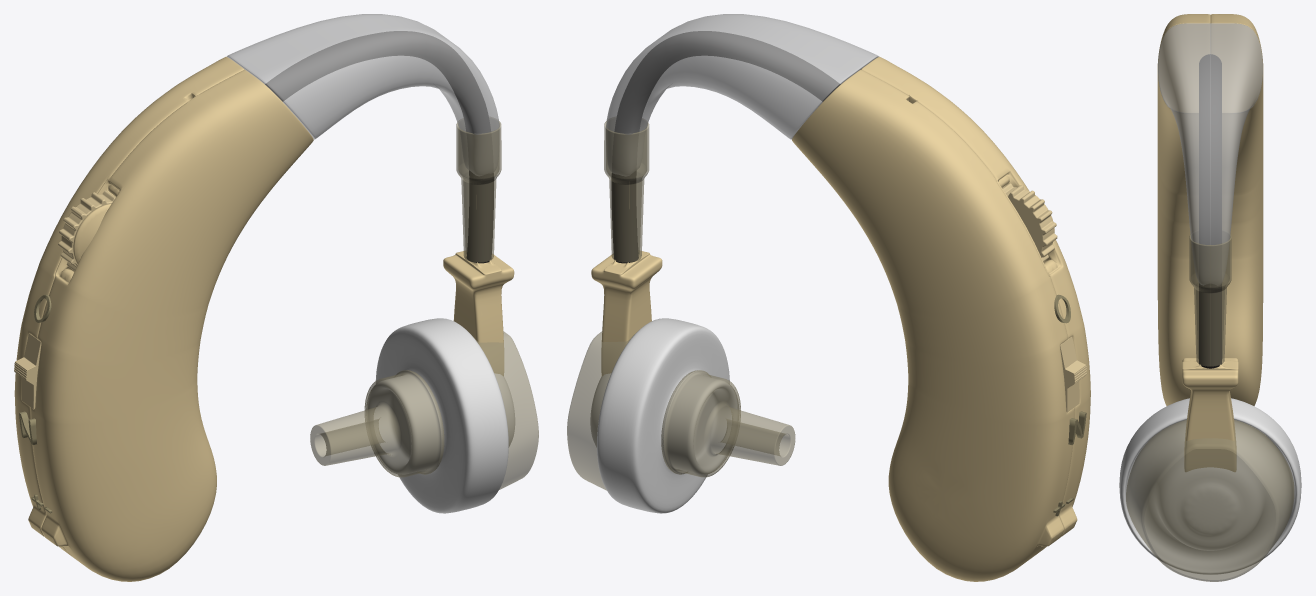
File: hearing-aid-model.glb
3 renders of one model, left to right at view 1: azimuth 30°, elevation 25°; view 2: azimuth 150°, elevation 25°; view 3: azimuth 270°, elevation 25°, orthographic. The views are drawn at different scales.
Visible parts, largest first — view 1: BaseF, MetallF, TubeBaseF, RubbersF, TubeF, 3F, LockF, LockF.003, TextF; view 2: BaseF, MetallF, TubeBaseF, RubbersF, TubeF, 3F, LockF, LockF.003, TextF; view 3: BaseF, RubbersF, MetallF, TubeBaseF, TubeF, 3F.
Part boxes in pixels (bbox=[...]): BaseF: bbox=[14, 56, 313, 581]; MetallF: bbox=[368, 318, 514, 513]; TubeBaseF: bbox=[227, 14, 499, 175]; RubbersF: bbox=[310, 117, 538, 489]; TubeF: bbox=[265, 31, 493, 263]; 3F: bbox=[443, 251, 514, 375]; LockF: bbox=[58, 190, 115, 270]; LockF.003: bbox=[14, 333, 41, 409]; TextF: bbox=[19, 294, 52, 513]; BaseF: bbox=[792, 56, 1090, 581]; MetallF: bbox=[590, 318, 737, 513]; TubeBaseF: bbox=[606, 14, 878, 176]; RubbersF: bbox=[567, 117, 795, 490]; TubeF: bbox=[612, 31, 839, 263]; 3F: bbox=[591, 251, 662, 375]; LockF: bbox=[1002, 183, 1057, 261]; LockF.003: bbox=[1060, 336, 1086, 412]; TextF: bbox=[1053, 294, 1086, 516]; BaseF: bbox=[1157, 14, 1263, 405]; RubbersF: bbox=[1126, 230, 1294, 581]; MetallF: bbox=[1119, 398, 1301, 574]; TubeBaseF: bbox=[1158, 23, 1262, 285]; TubeF: bbox=[1199, 54, 1221, 368]; 3F: bbox=[1182, 358, 1238, 471].
Bounding box in the file's own units: 0.056 × 0.0553 × 0.0195.
